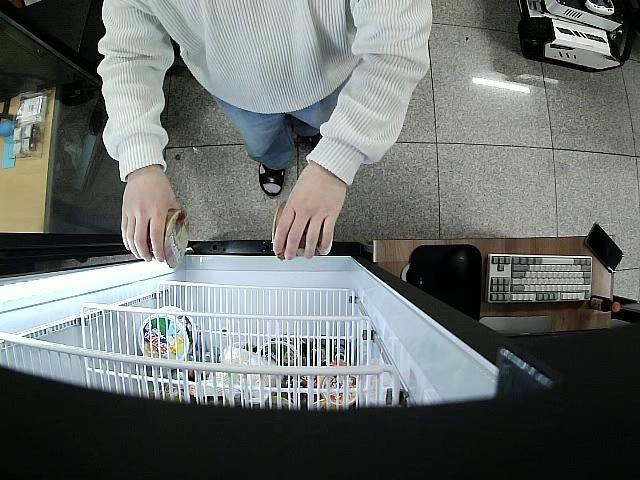00_hand: (274, 171, 347, 258), (121, 181, 179, 264)
04_chapagetti_S: (273, 201, 332, 261), (164, 211, 192, 271)
